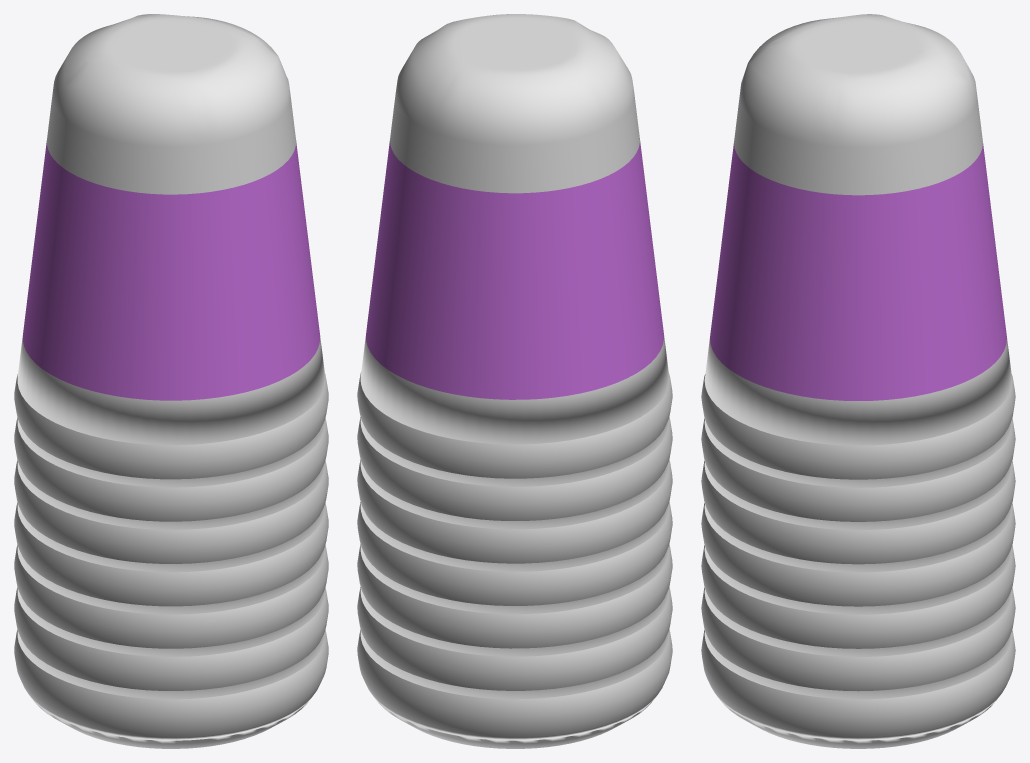
The model's file is cup empty (1).fbx.
3 views of the same model, side by side, from view 1: azimuth 30°, elevation 25°; view 2: azimuth 150°, elevation 25°; view 3: azimuth 270°, elevation 25° (orthographic).
Parts seen in each view (by area): view 1: Cup Stack.001; view 2: Cup Stack.001; view 3: Cup Stack.001.
Boxes of the visible parts, x1,y1,x2,y2 form: Cup Stack.001: (14,14,328,748); Cup Stack.001: (357,14,672,748); Cup Stack.001: (701,14,1015,748).
Bounding box in the file's own units: 12.34 × 28.29 × 12.34.
